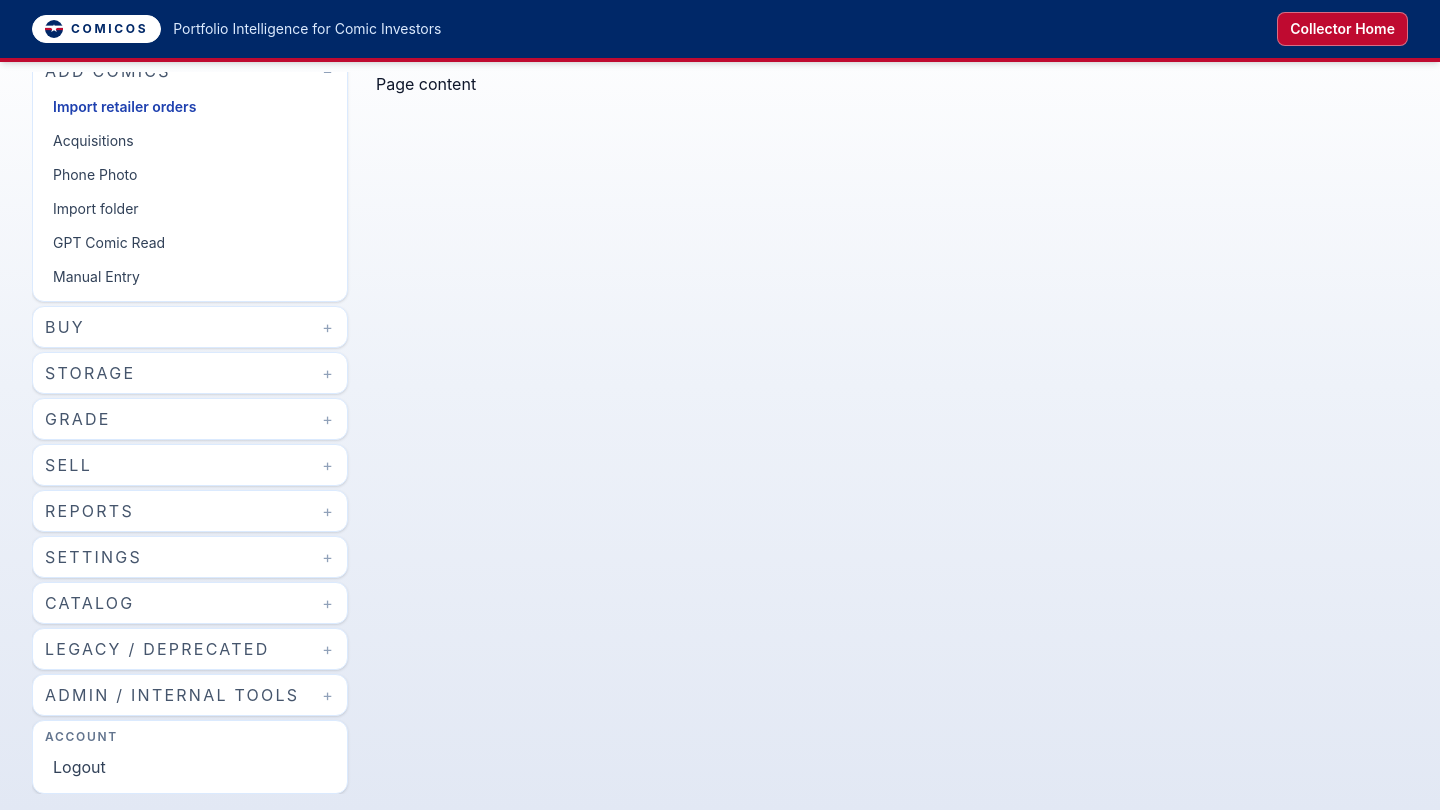
Test: AppShell navigation › does not show a Discovery sidebar group; discovery routes live under Reports
(page scrolled)
Expected: the button "Discovery" is not shown
Click the button "Reports +" at (89, 511), box [33,491,347,531]
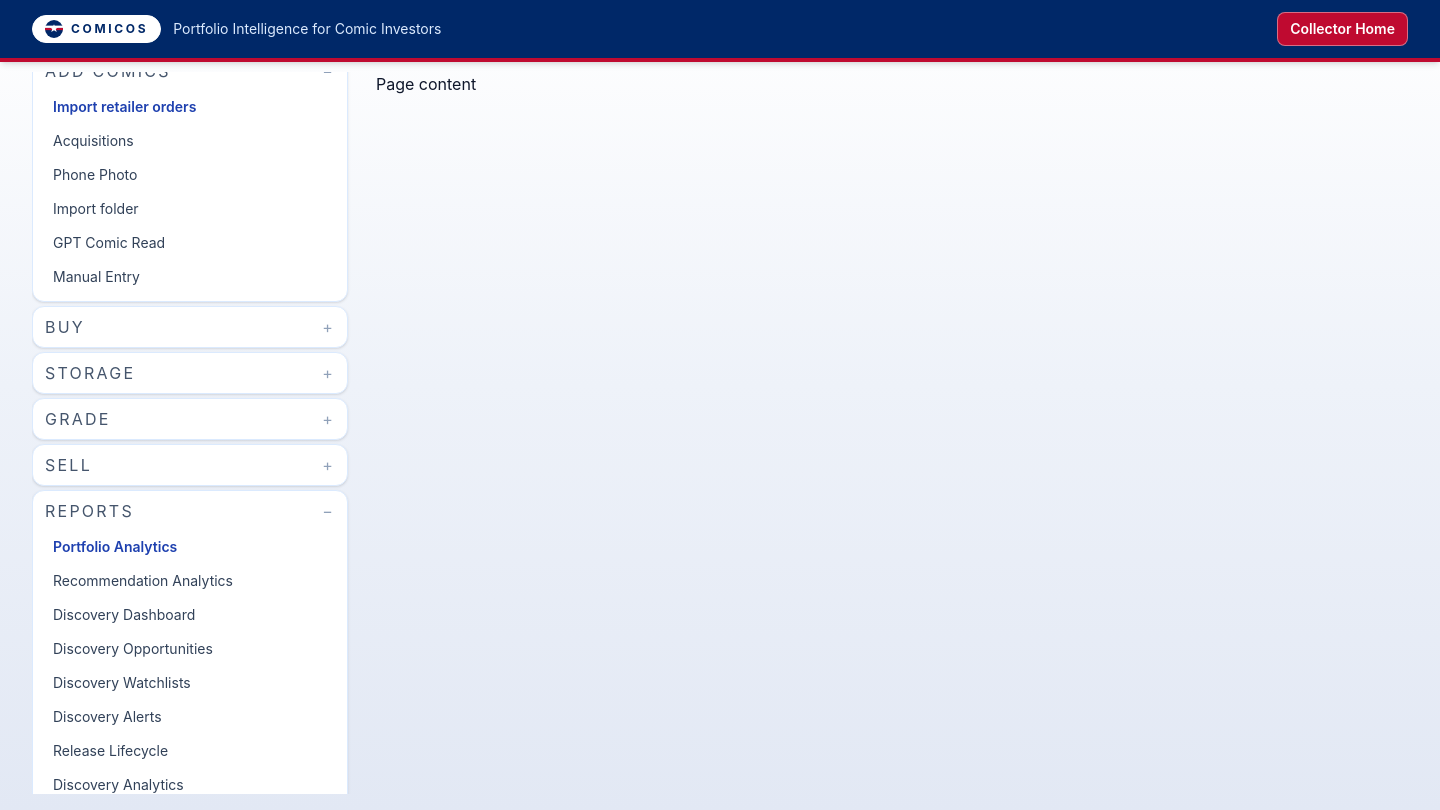
Now the link "Discovery Dashboard" is shown, box [53,606,195,623]
Now the link "Release Lifecycle" is shown, box [53,742,168,759]
